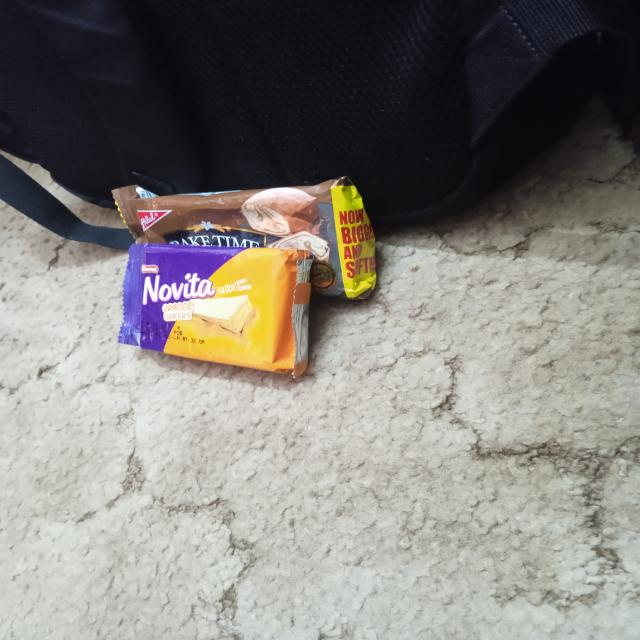Plastic: (121, 246, 312, 373), (105, 180, 375, 244)
